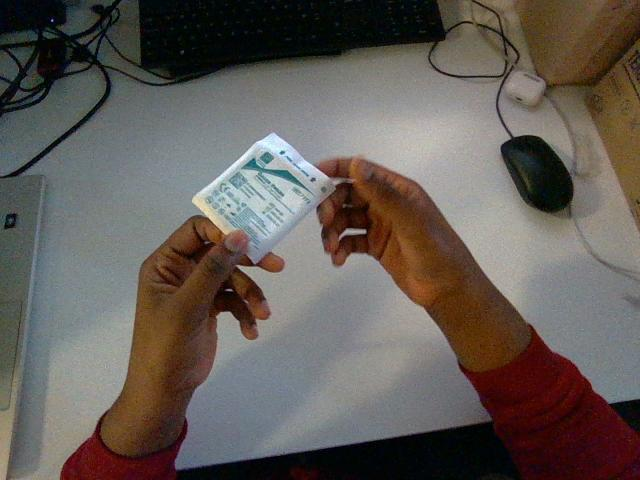gauze: (192, 133, 334, 262)
